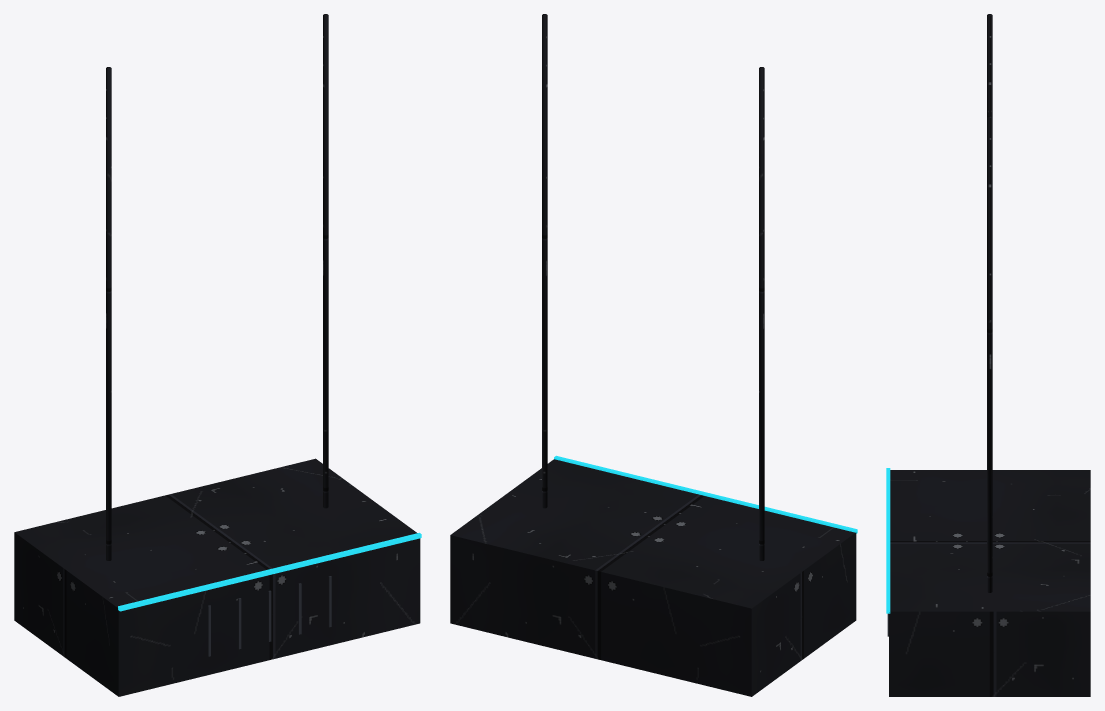
Rendered from Light_PendantBox.gltf.
The picture shows the model from 3 angles, left to right: view 1: azimuth 30°, elevation 25°; view 2: azimuth 150°, elevation 25°; view 3: azimuth 270°, elevation 25°; orthographic projection. The views are drawn at different scales.
Parts seen in each view (by area): view 1: Light_PendantBox; view 2: Light_PendantBox; view 3: Light_PendantBox.
Part boxes in pixels (box(x1,y1,x2,y2)): Light_PendantBox: box(14, 14, 421, 696); Light_PendantBox: box(450, 14, 857, 696); Light_PendantBox: box(886, 14, 1090, 696).
Bounding box in the file's own units: 0.5 × 0.926 × 0.304.
Materials: 4 (1 with a texture image).
